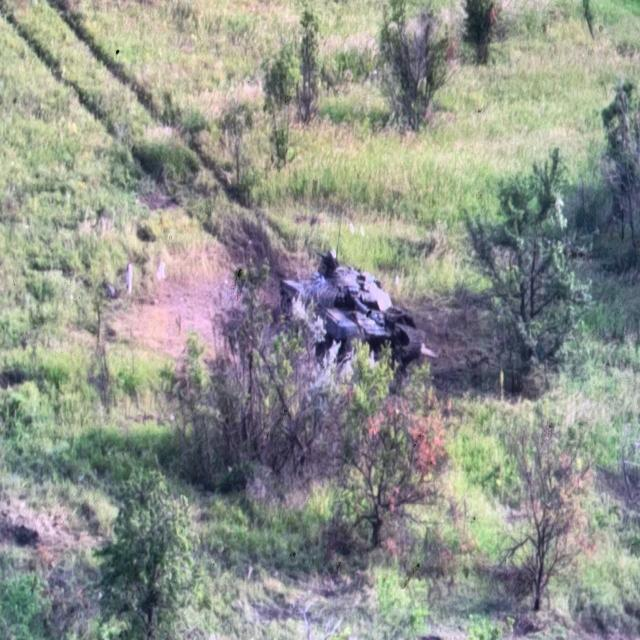MBT: (280, 247, 423, 364)
